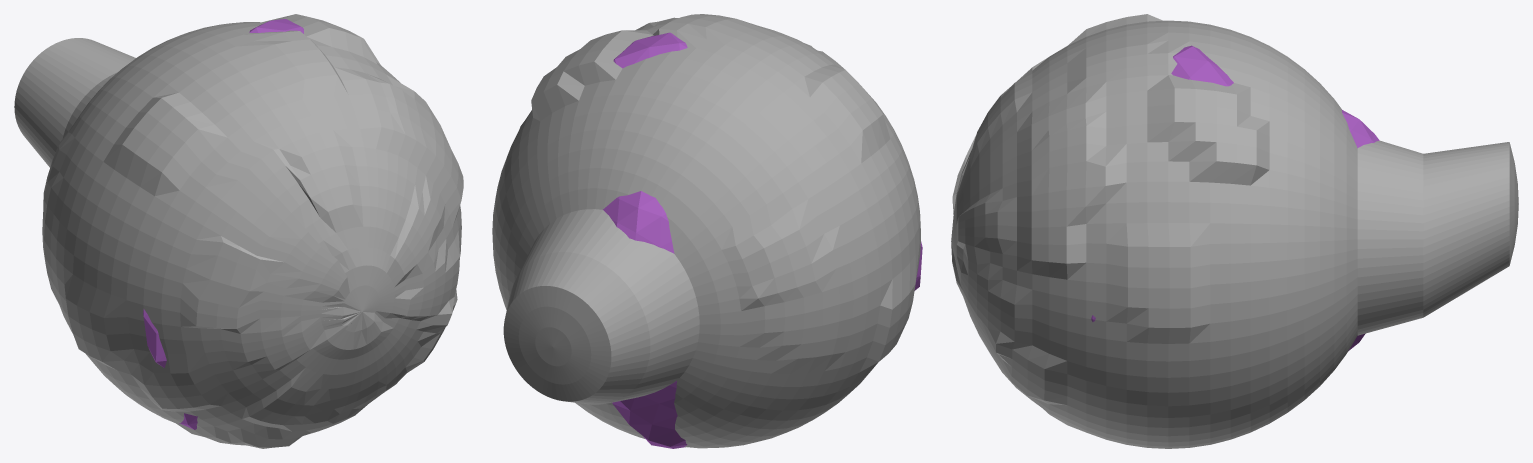
Rendered from G11_A0_ALIGNED_GT.glb.
The picture shows the model from 3 angles, left to right: view 1: azimuth 30°, elevation 25°; view 2: azimuth 150°, elevation 25°; view 3: azimuth 270°, elevation 25°; orthographic projection. The views are drawn at different scales.
Visible parts, largest first — view 1: Independent_GT, A0; view 2: Independent_GT, A0; view 3: Independent_GT, A0.
Boxes of the visible parts, <box> form: Independent_GT: <box>14,14,463,448</box>; A0: <box>143,19,303,429</box>; Independent_GT: <box>492,14,920,448</box>; A0: <box>603,32,922,448</box>; Independent_GT: <box>951,14,1518,448</box>; A0: <box>1091,45,1379,351</box>.
Size of the model in its own units: 0.00572 by 0.00563 by 0.00741.
